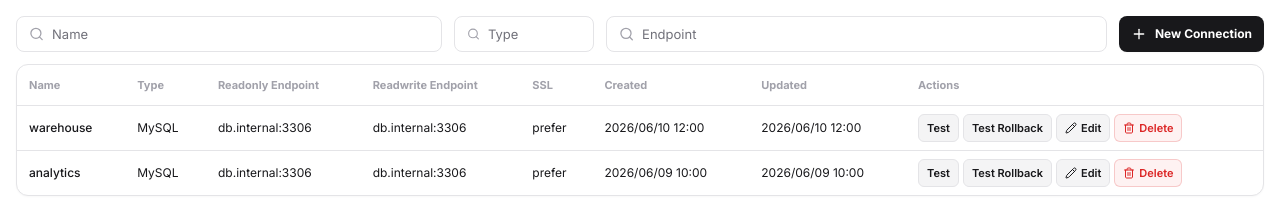
Scenario: DBConnectionsPage › moves a failed connection test row to the top and shows the error
Click the button "Test" in the row of "warehouse": (938,128) [918, 114, 959, 142]
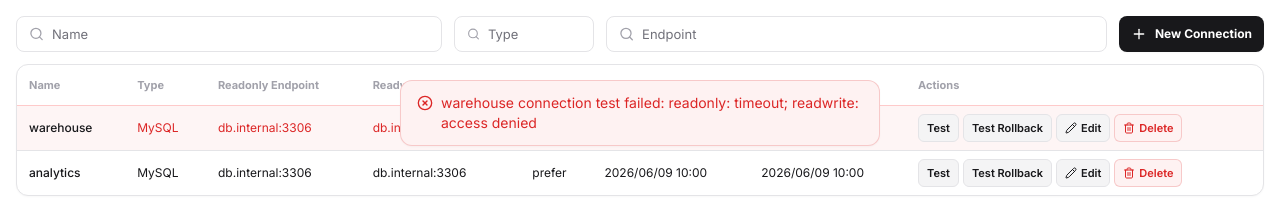
Expected: the row that starts with "warehouse" is shown, [29, 120, 92, 135]
Expected: the text "warehouse connection test failed: readonly: timeout; readwrite: access denied" is shown, [441, 93, 863, 133]
